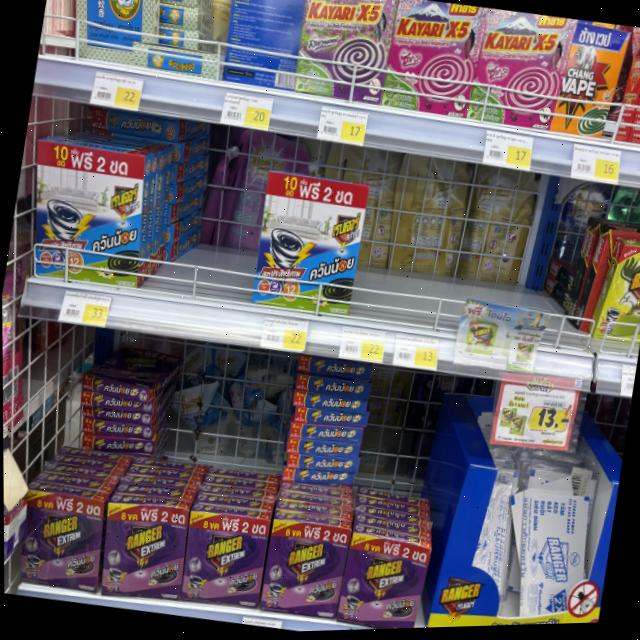empty_shelf: (350, 174, 611, 349), (140, 148, 270, 303)
